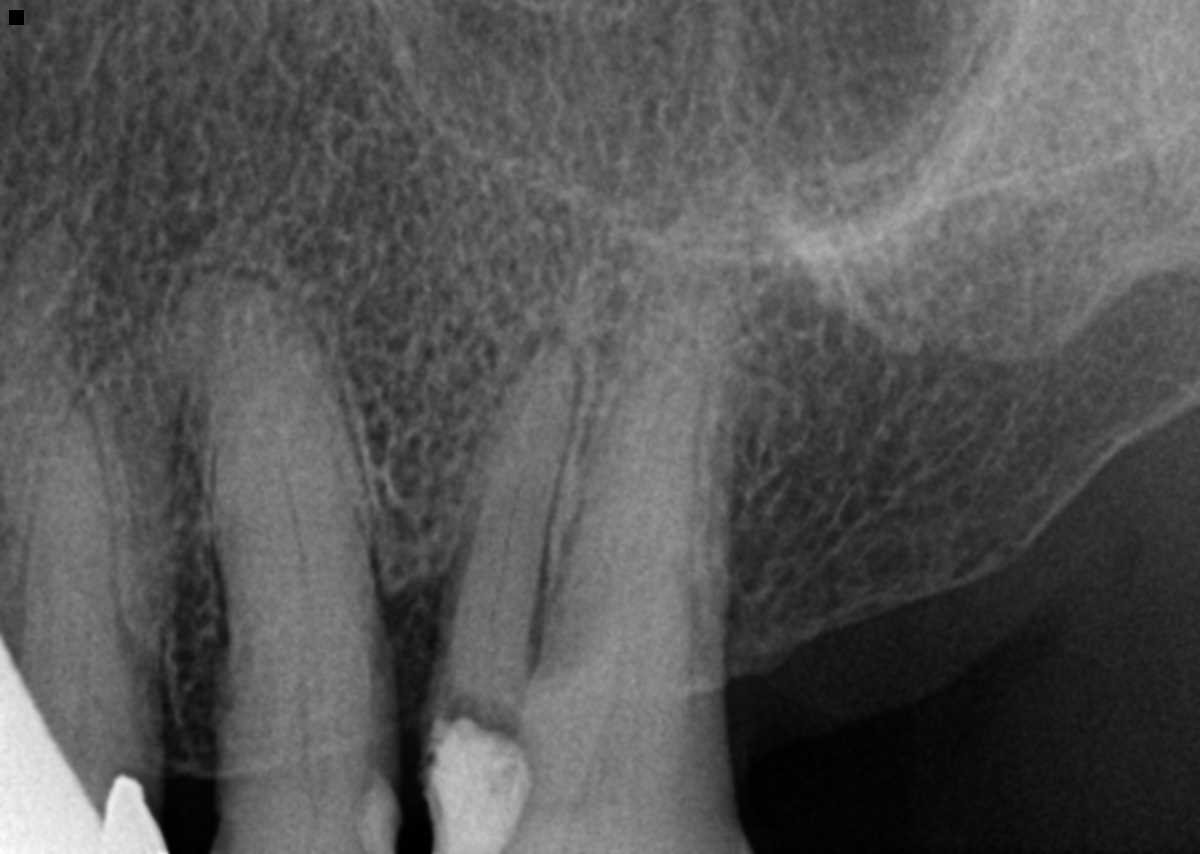Apical Lesion: (503, 322, 588, 405)
Distal Canal: (544, 338, 705, 657)
Main Canal: (273, 447, 314, 662)
Main Root: (199, 280, 379, 722), (18, 319, 215, 699)
Mesial Canal: (483, 465, 529, 663)
Mesial Root: (434, 344, 575, 707)
Palatal Root: (536, 254, 747, 693)
decay: (427, 690, 526, 751)
